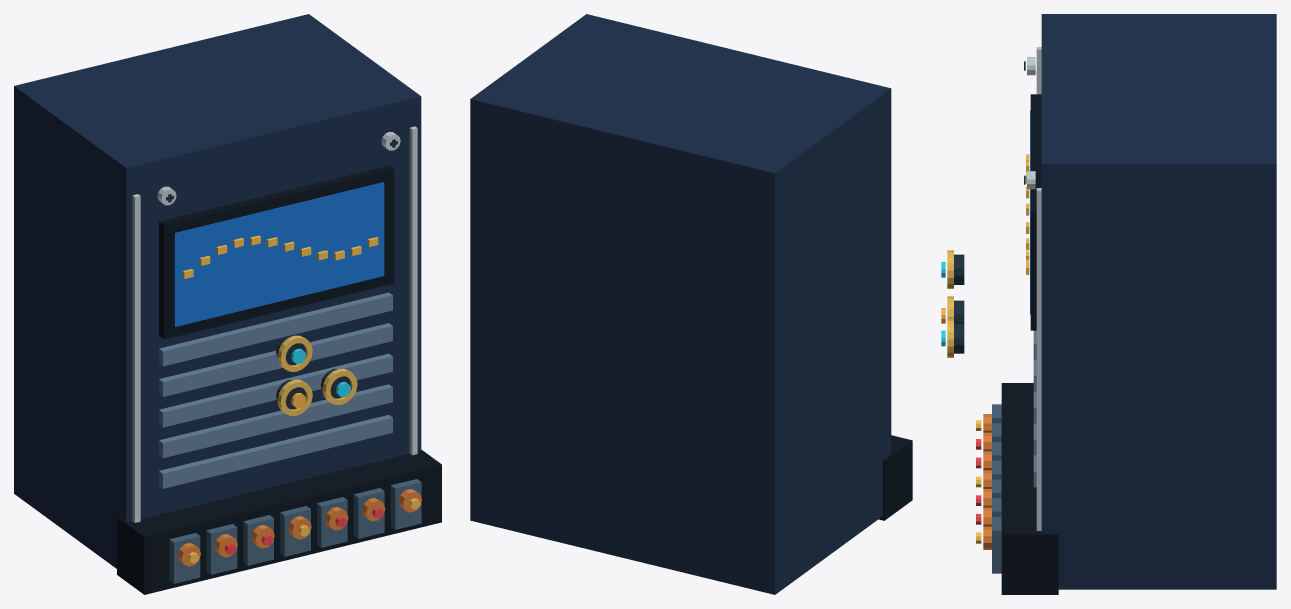
File: 59_L83_EclipseEntryPredictionConsole.fbx
3 views of the same model, side by side, from view 1: azimuth 30°, elevation 25°; view 2: azimuth 150°, elevation 25°; view 3: azimuth 270°, elevation 25° (orthographic). The views are drawn at different scales.
Visible parts, largest first — view 1: EclipseEntryPredictionConsole; view 2: EclipseEntryPredictionConsole; view 3: EclipseEntryPredictionConsole.
Boxes of the visible parts, x1=… form: EclipseEntryPredictionConsole: x1=14, y1=14, x2=441, y2=594; EclipseEntryPredictionConsole: x1=470, y1=14, x2=912, y2=594; EclipseEntryPredictionConsole: x1=941, y1=14, x2=1276, y2=594.
Size of the model in its own units: 113 by 150 by 106.
